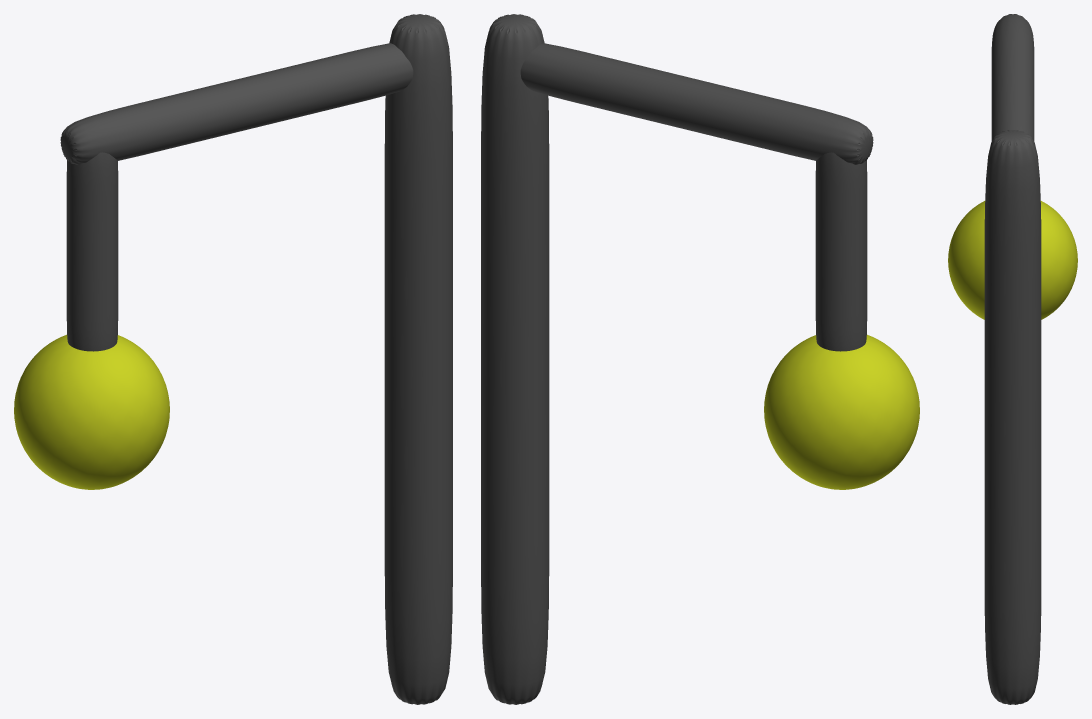
Rendered from Lights 8.fbx.
3 renders of one model, left to right at view 1: azimuth 30°, elevation 25°; view 2: azimuth 150°, elevation 25°; view 3: azimuth 270°, elevation 25°, orthographic. The views are drawn at different scales.
Parts seen in each view (by area): view 1: Cylinder, Sphere, Cylinder_3; view 2: Cylinder, Sphere, Cylinder_3; view 3: Cylinder, Sphere.
Part boxes in pixels (x1=…): Cylinder: x1=60, y1=14, x2=452, y2=704; Sphere: x1=14, y1=334, x2=169, y2=489; Cylinder_3: x1=66, y1=152, x2=118, y2=351; Cylinder: x1=481, y1=14, x2=873, y2=704; Sphere: x1=764, y1=334, x2=919, y2=489; Cylinder_3: x1=815, y1=152, x2=867, y2=351; Cylinder: x1=984, y1=14, x2=1041, y2=704; Sphere: x1=948, y1=201, x2=1077, y2=319.
Size of the model in its own units: 237 by 362 by 75.53.
